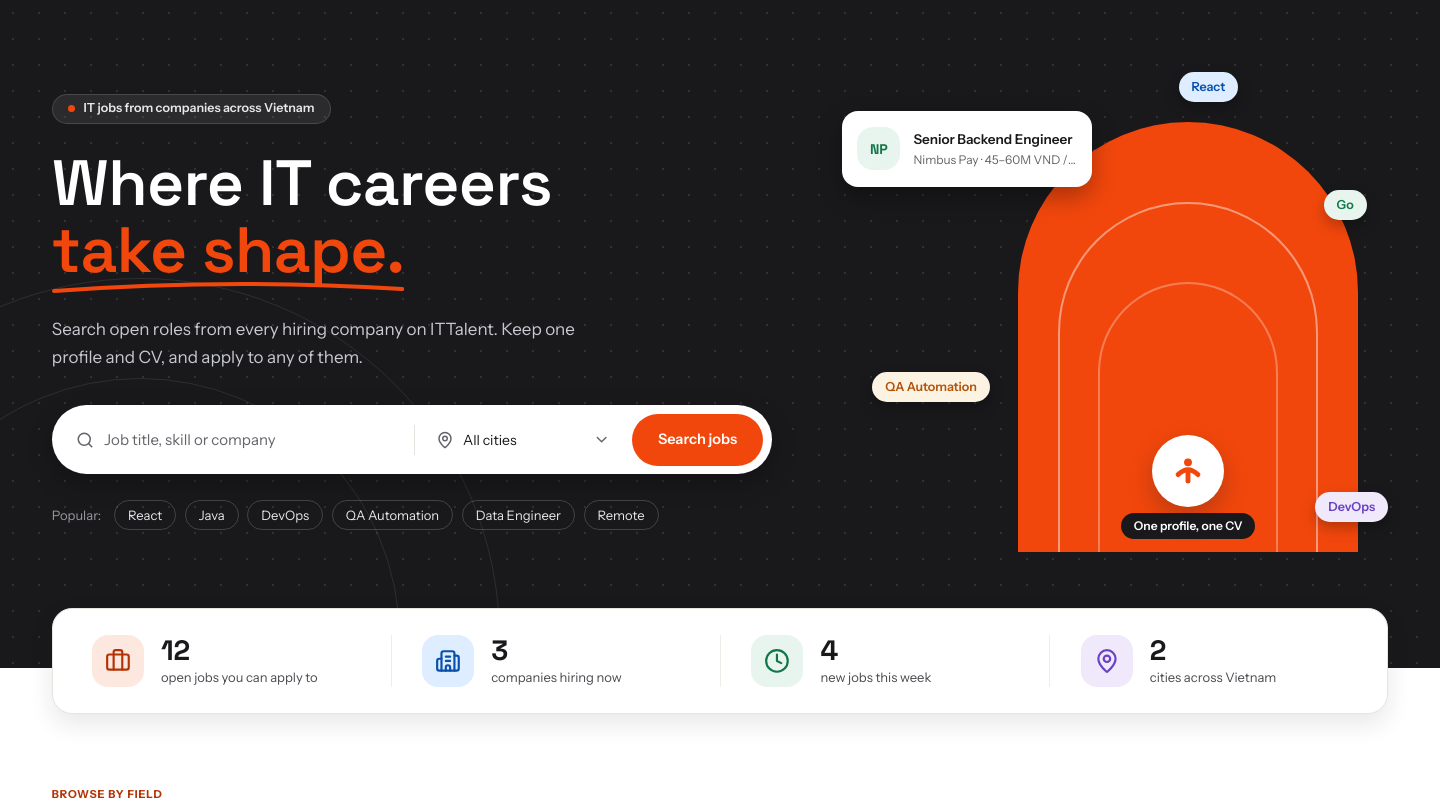
Test case: HomePage › blocks unsafe search keywords
Type "<script>" into the field named "keyword".
click(247, 440); type("<script>")  # box [104,429,390,451]
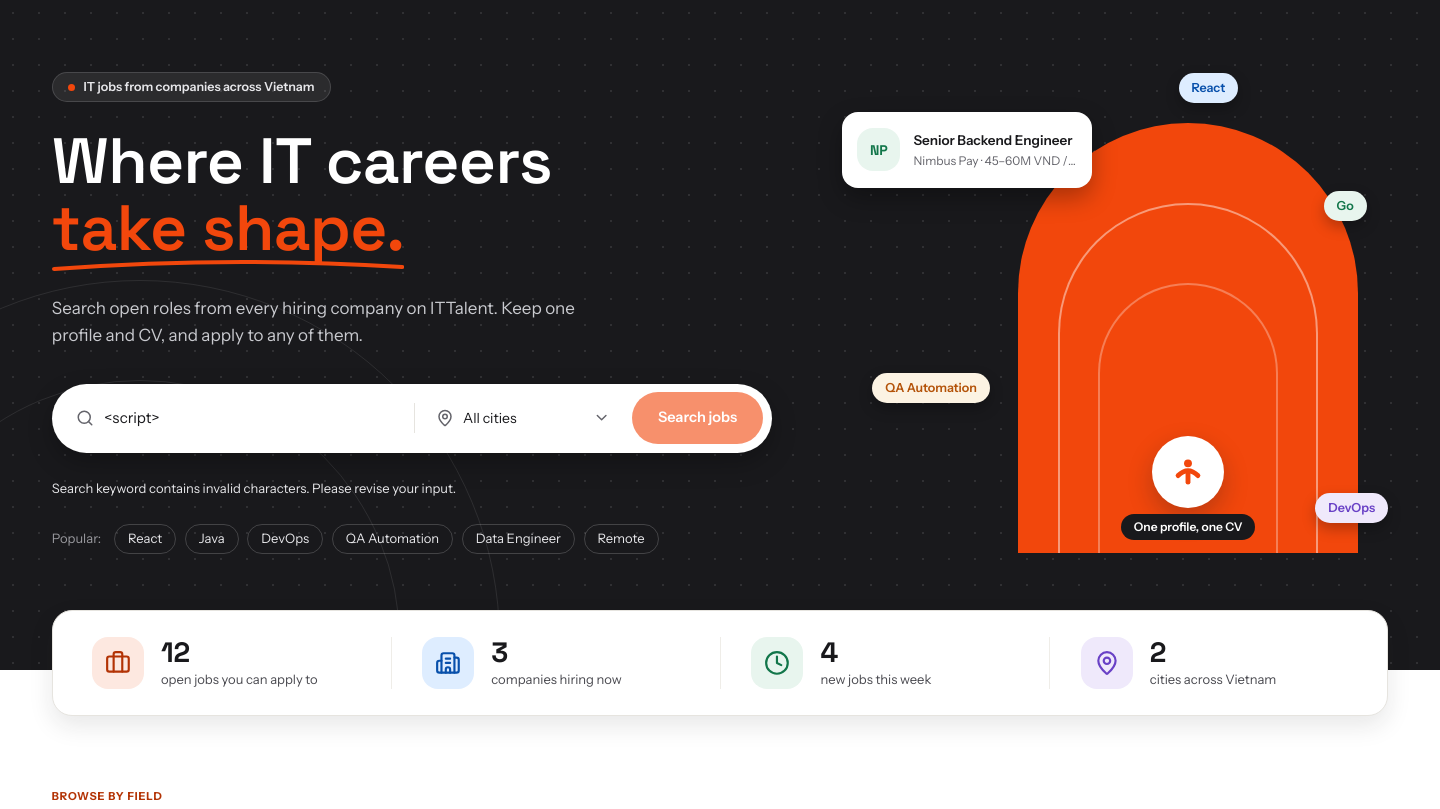
Expected: the message shows "invalid characters", [52,480,456,496]
Expected: the button "Search jobs" is disabled, [632,392,763,444]
